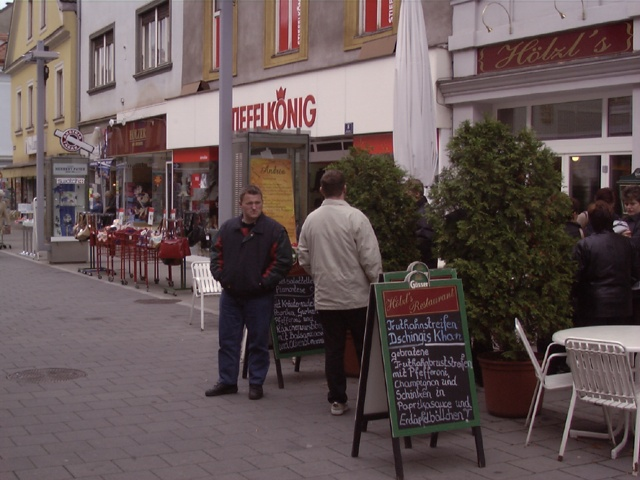person: (296, 167, 378, 417), (209, 184, 288, 397)
